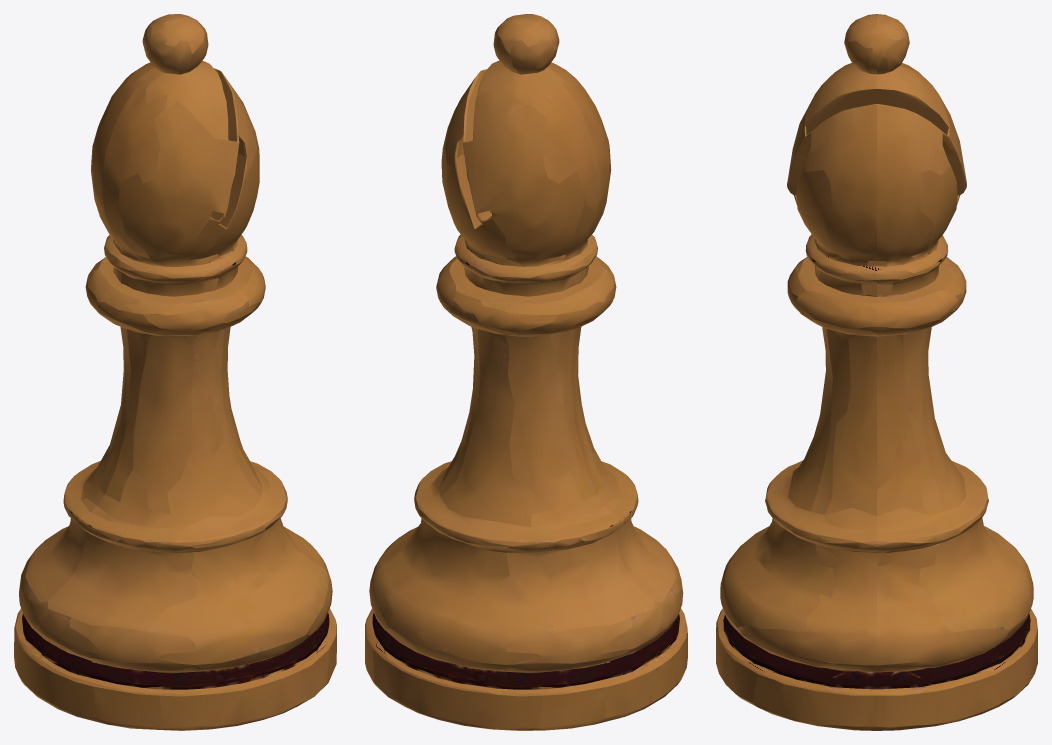
3 renders of one model, left to right at view 1: azimuth 30°, elevation 25°; view 2: azimuth 150°, elevation 25°; view 3: azimuth 270°, elevation 25°, orthographic.
Parts seen in each view (by area): view 1: geometry_0; view 2: geometry_0; view 3: geometry_0.
Part boxes in pixels (x1,y1,x2,y2): geometry_0: (14,14,336,730); geometry_0: (365,14,687,730); geometry_0: (716,14,1037,730).
Size of the model in its own units: 0.453 by 1 by 0.4523.
1 material, 1 textured.
